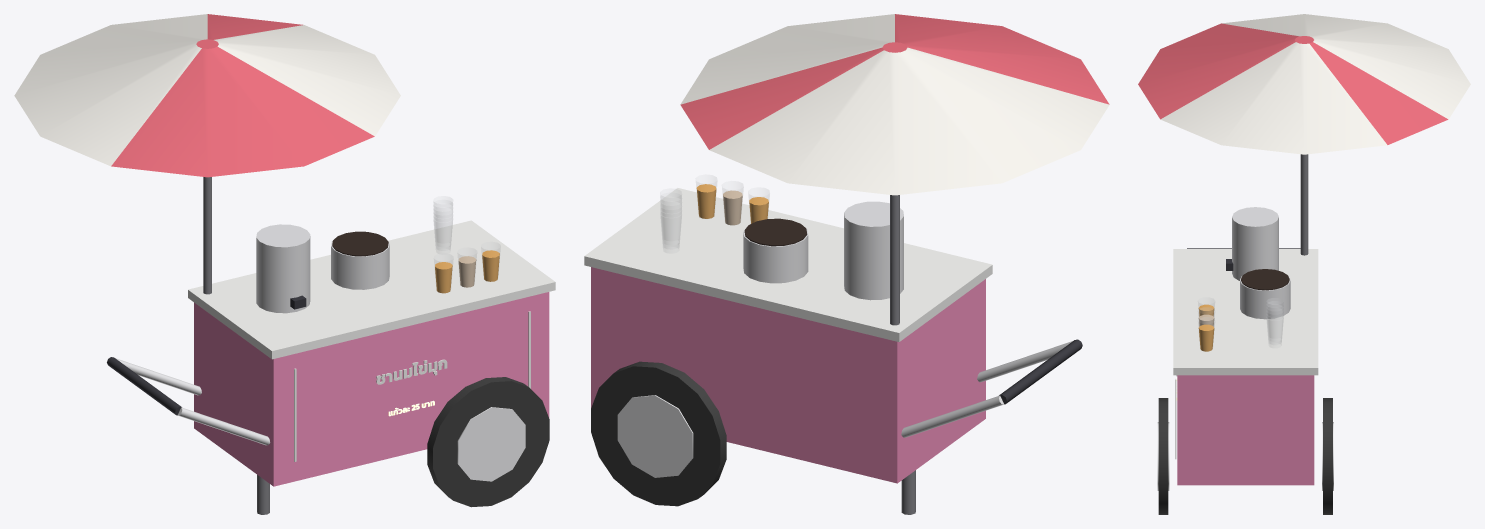
File: SM_BobaCart.fbx
3 views of the same model, side by side, from view 1: azimuth 30°, elevation 25°; view 2: azimuth 150°, elevation 25°; view 3: azimuth 270°, elevation 25° (orthographic). The views are drawn at different scales.
Visible parts, largest first — view 1: SM_BobaCart; view 2: SM_BobaCart; view 3: SM_BobaCart.
Boxes of the visible parts, left/top/right/bottom form: SM_BobaCart: left=14, top=14, right=555, bottom=514; SM_BobaCart: left=584, top=14, right=1109, bottom=514; SM_BobaCart: left=1138, top=14, right=1470, bottom=514.
Bounding box in the file's own units: 2.23 × 2.17 × 1.7.
